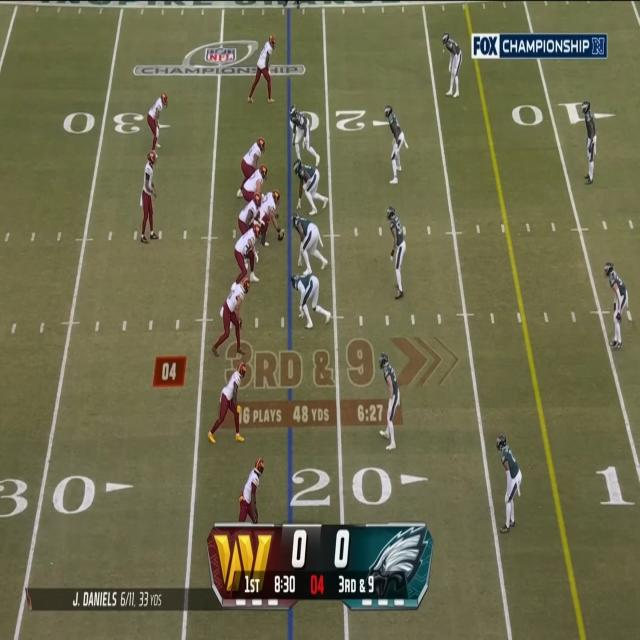Ball: (278, 228, 285, 243)
